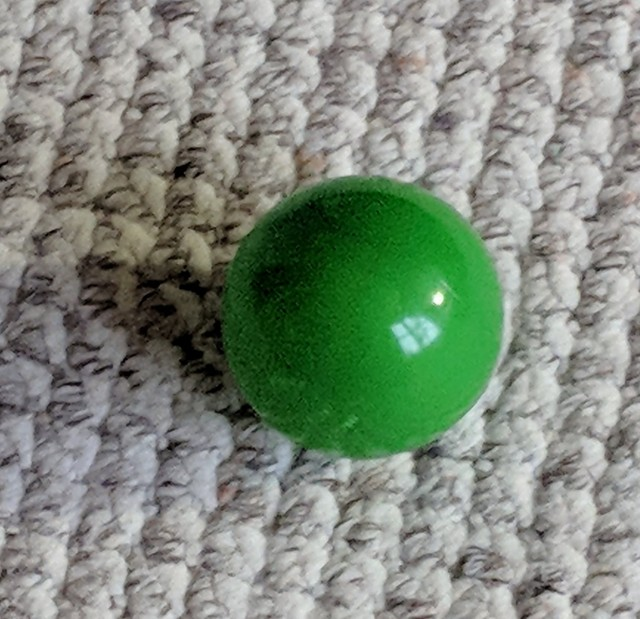Ball: (220, 172, 501, 452)
